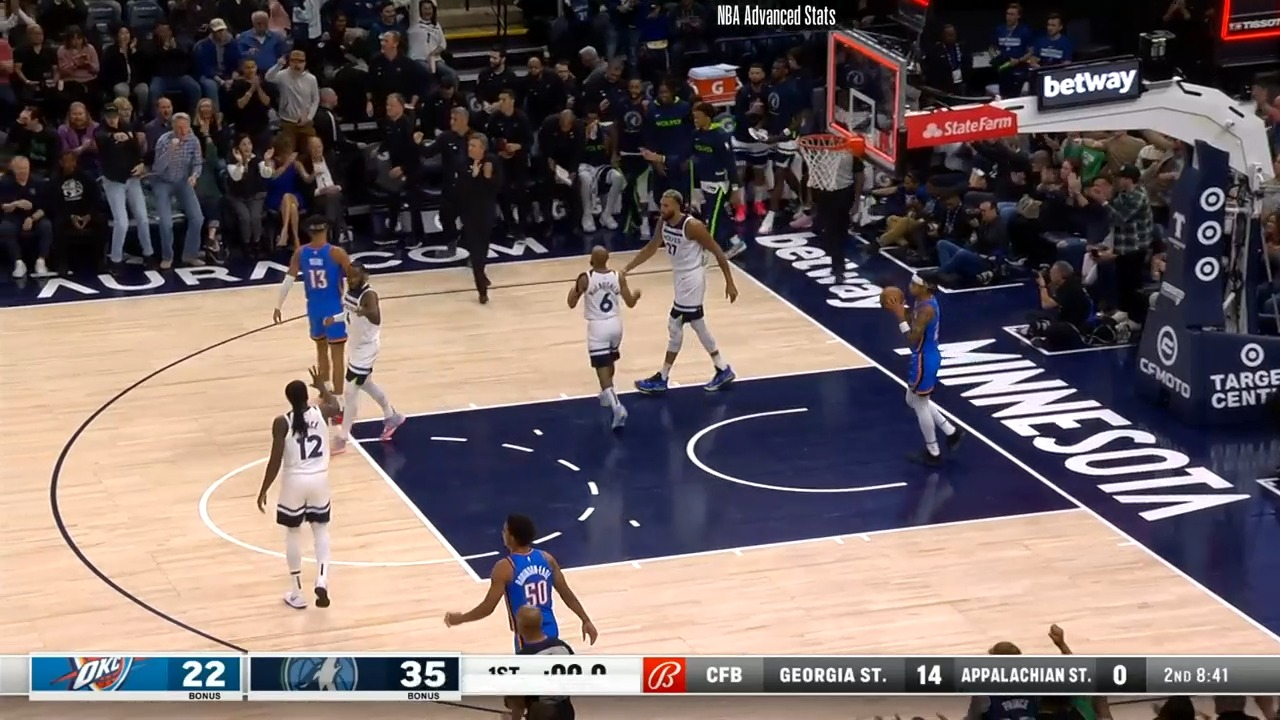net: (797, 126, 873, 192)
player: (623, 193, 744, 397), (451, 510, 606, 650), (257, 375, 342, 617), (877, 271, 957, 475), (278, 212, 364, 396), (563, 244, 639, 435), (328, 264, 401, 456)
referee: (806, 133, 868, 295)
